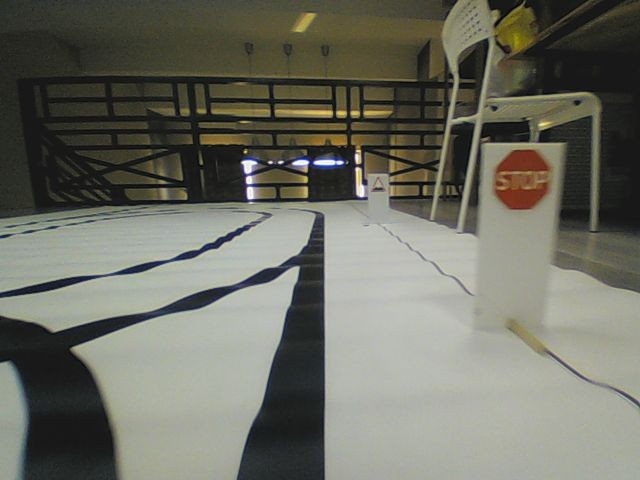Nerov: (370, 175, 385, 194)
Stop: (492, 146, 551, 212)
